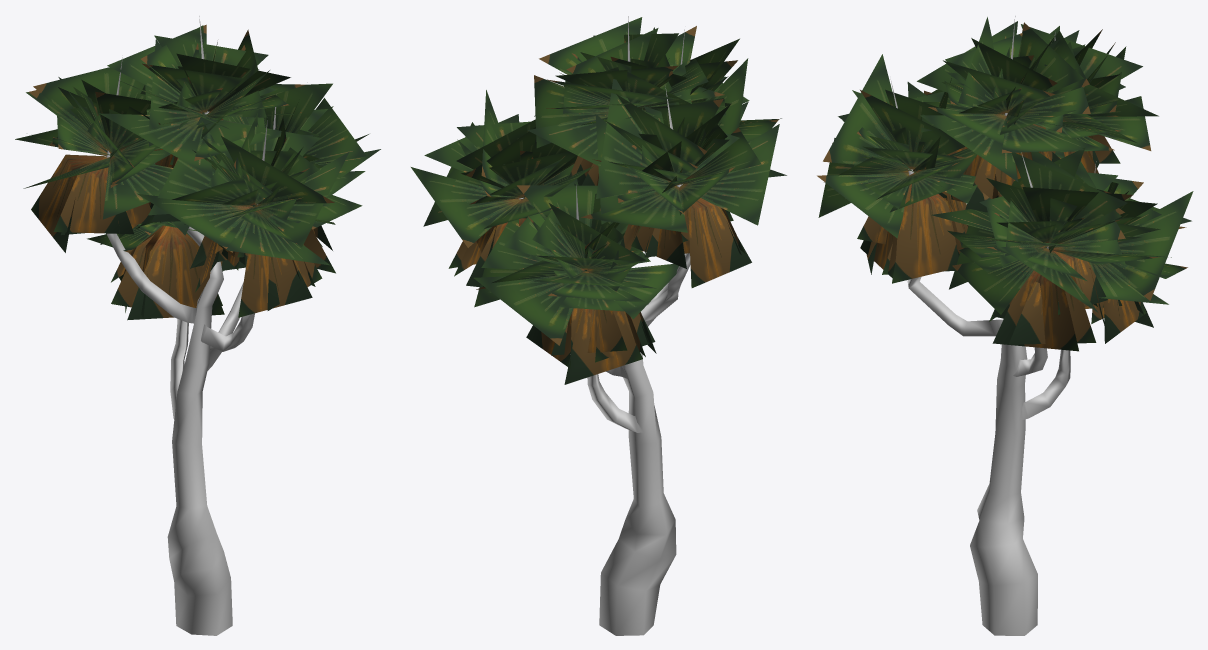
The model's file is Tree_09_1_L3.fbx.
3 views of the same model, side by side, from view 1: azimuth 30°, elevation 25°; view 2: azimuth 150°, elevation 25°; view 3: azimuth 270°, elevation 25° (orthographic).
Parts seen in each view (by area): view 1: polySurface59; view 2: polySurface59; view 3: polySurface59.
Part boxes in pixels (<box>): polySurface59: <box>15,16,380,635</box>; polySurface59: <box>411,16,786,635</box>; polySurface59: <box>817,16,1193,635</box>.
Bounding box in the file's own units: 681 × 1208 × 676.
